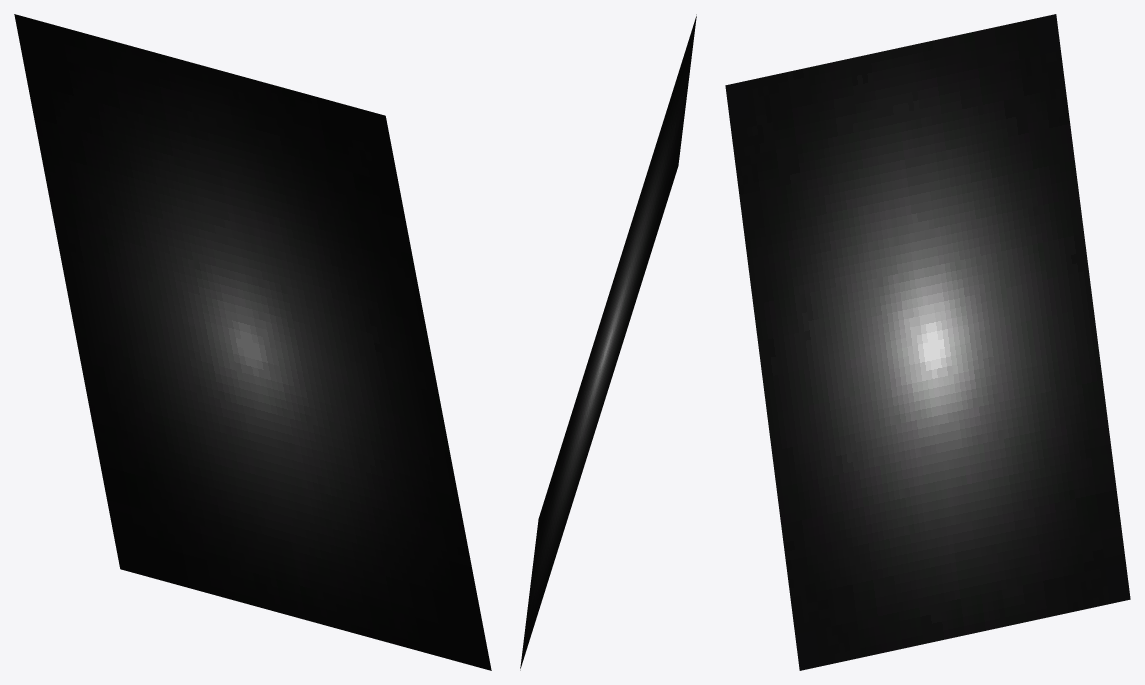
The model's file is qidong.fbx.
The picture shows the model from 3 angles, left to right: view 1: azimuth 30°, elevation 25°; view 2: azimuth 150°, elevation 25°; view 3: azimuth 270°, elevation 25°; orthographic projection. The views are drawn at different scales.
Parts seen in each view (by area): view 1: 41_warriormale_bsword_chongci01; view 2: 41_warriormale_bsword_chongci01; view 3: 41_warriormale_bsword_chongci01.
Part boxes in pixels (x1,y1,x2,y2): 41_warriormale_bsword_chongci01: [14, 14, 491, 670]; 41_warriormale_bsword_chongci01: [520, 14, 696, 670]; 41_warriormale_bsword_chongci01: [725, 14, 1130, 670].
Size of the model in its own units: 19.34 by 35.55 by 24.92.
Materials: 1 (1 with a texture image).
